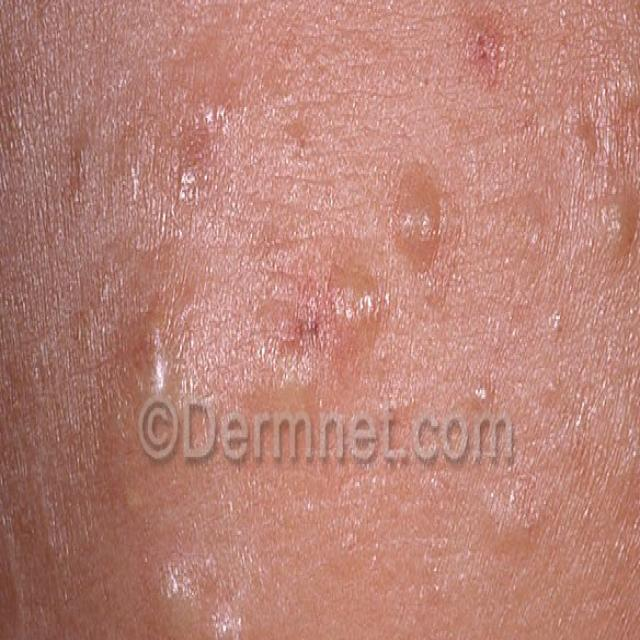Acne: (453, 5, 640, 119), (101, 295, 207, 478), (0, 38, 105, 221), (0, 428, 90, 640), (122, 526, 283, 640), (253, 261, 412, 376), (379, 120, 466, 290), (161, 59, 249, 227), (500, 166, 575, 309), (468, 476, 566, 580), (590, 163, 640, 291), (464, 347, 515, 422)
